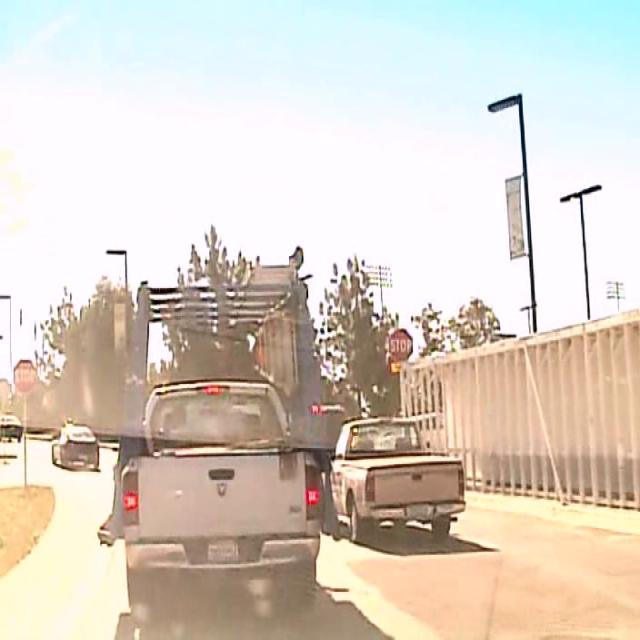stop: (387, 328, 412, 365), (13, 359, 37, 393)
